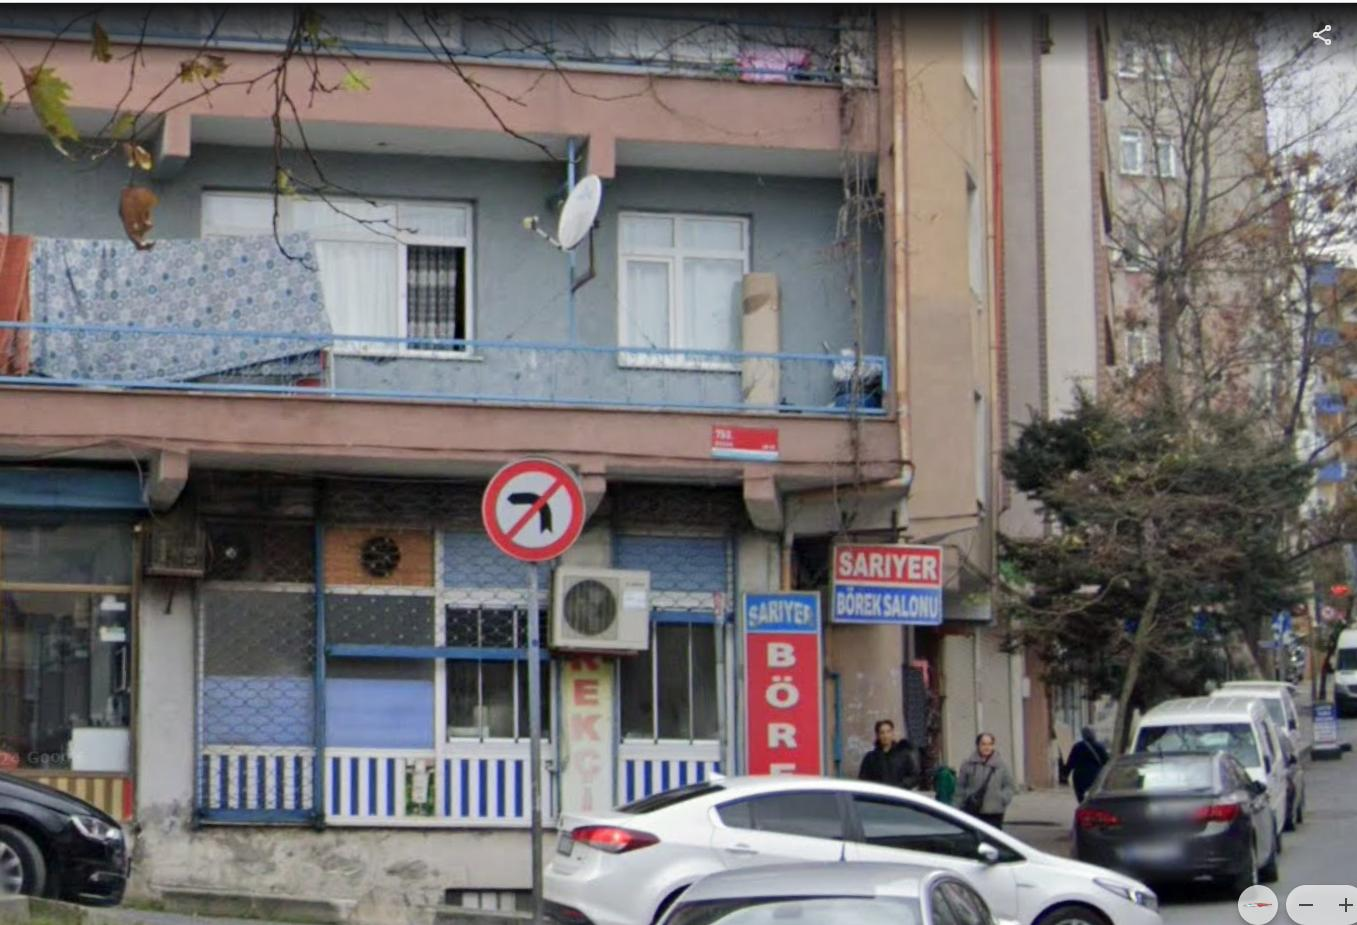leftturnsareforbidden: (484, 462, 582, 555)
